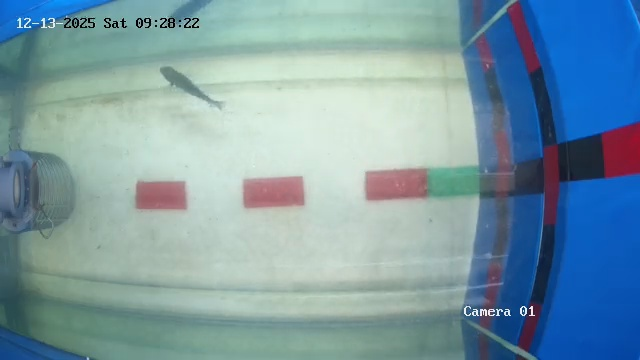fish: (156, 54, 223, 119)
